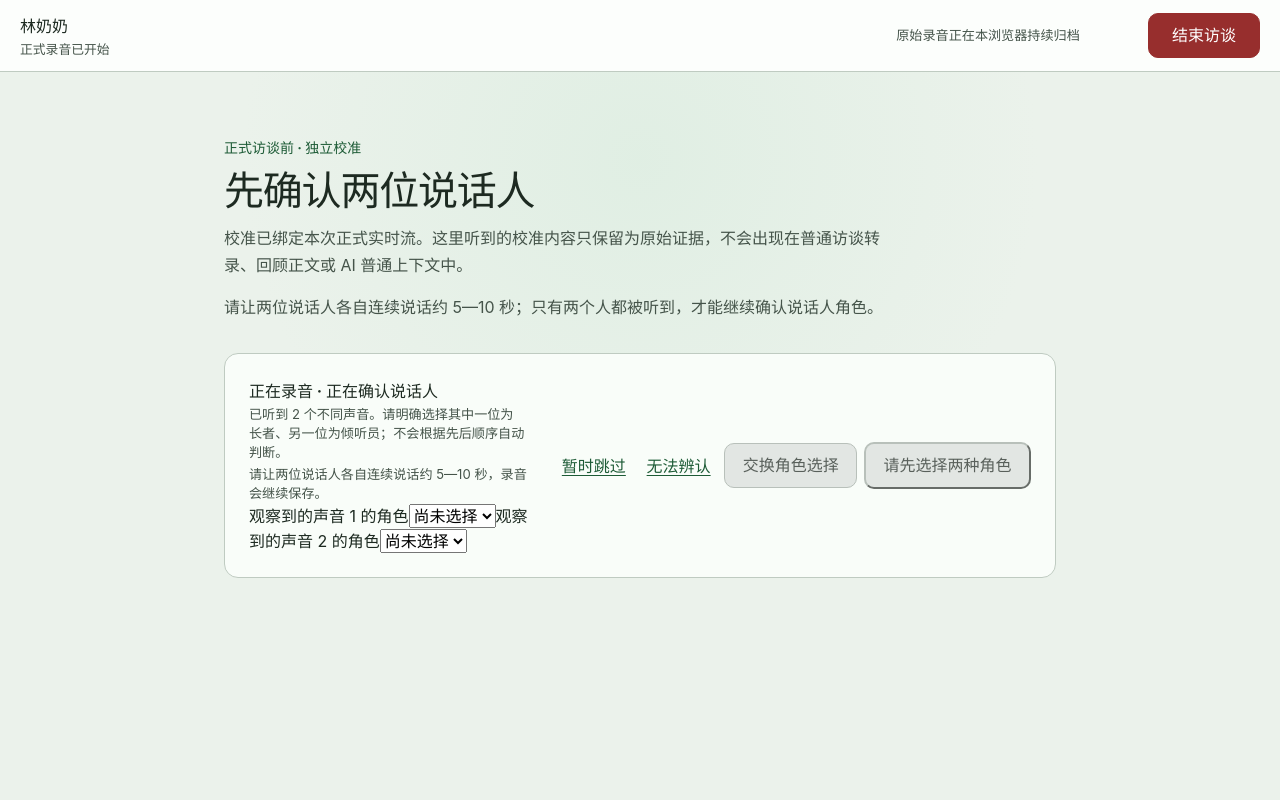
Test: WorkbenchShell › offers the same End Interview action during speaker calibration
Expected: the heading "先确认两位说话人" is shown, [224,166,534,216]
Click the button "结束访谈" at (1204, 36), box [1148,13,1260,58]
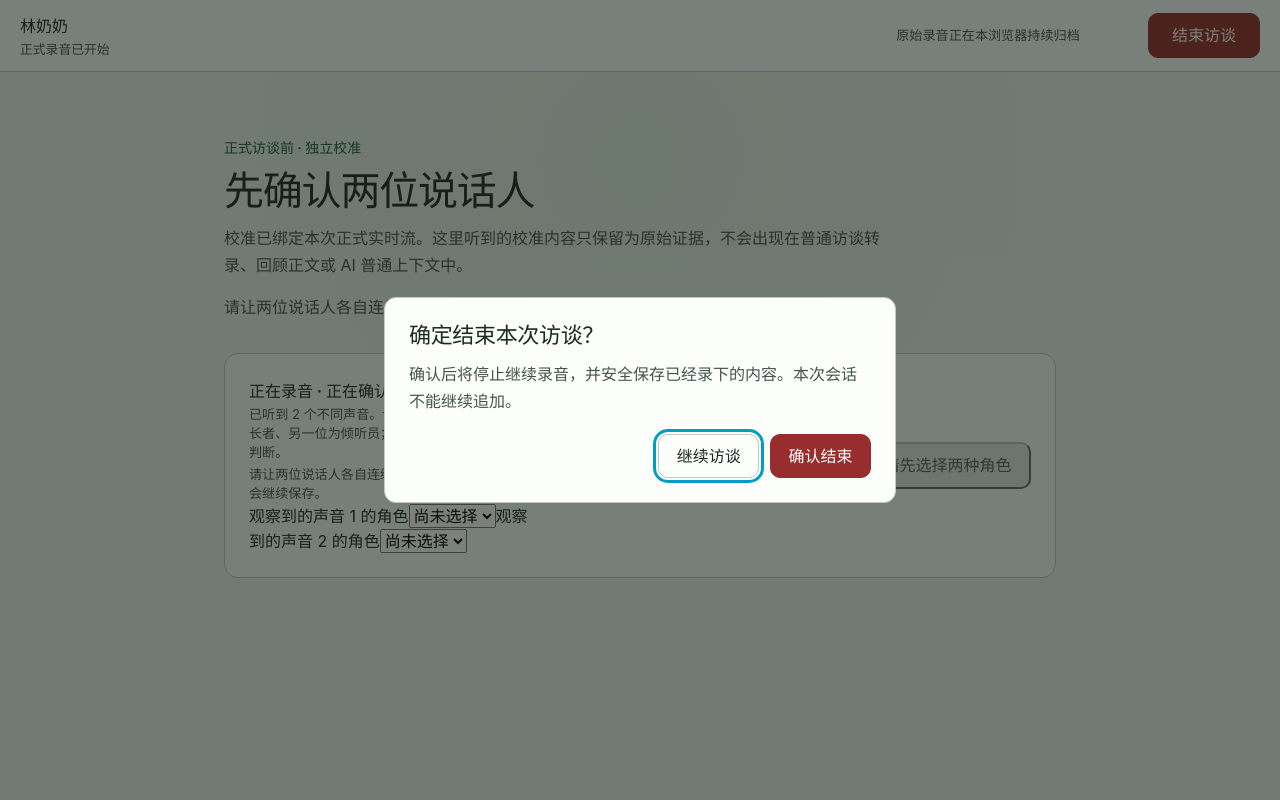
Result: the dialog is shown at [384,297,896,503]
Click the button "继续访谈" at (709, 456), box [658,434,759,478]
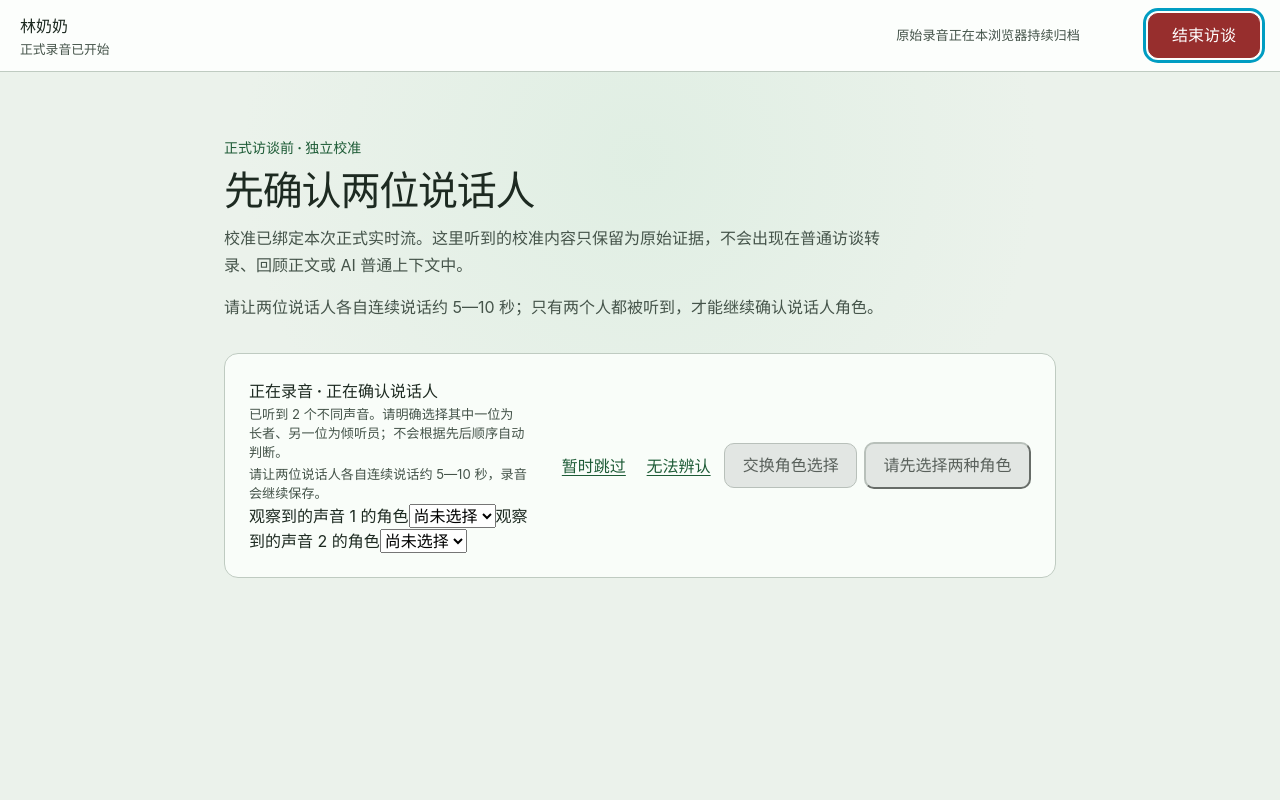
Result: the dialog is gone
